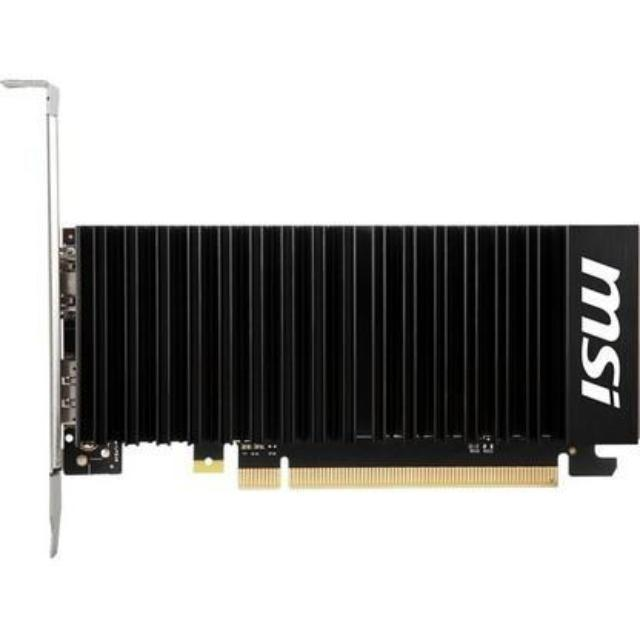GPU: (43, 206, 640, 484)
